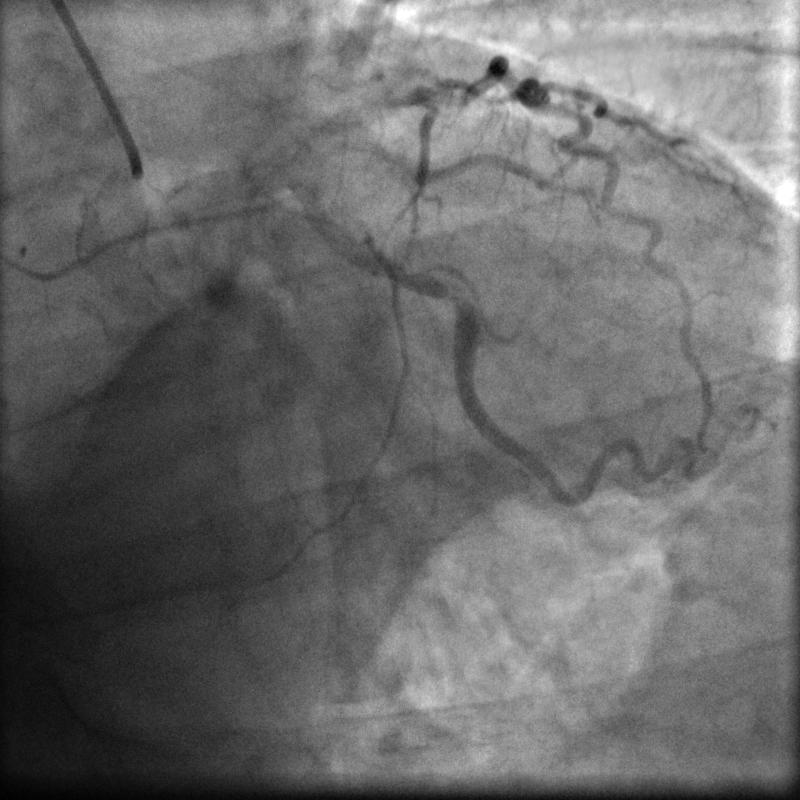Stenosis: (427, 271, 472, 326)
